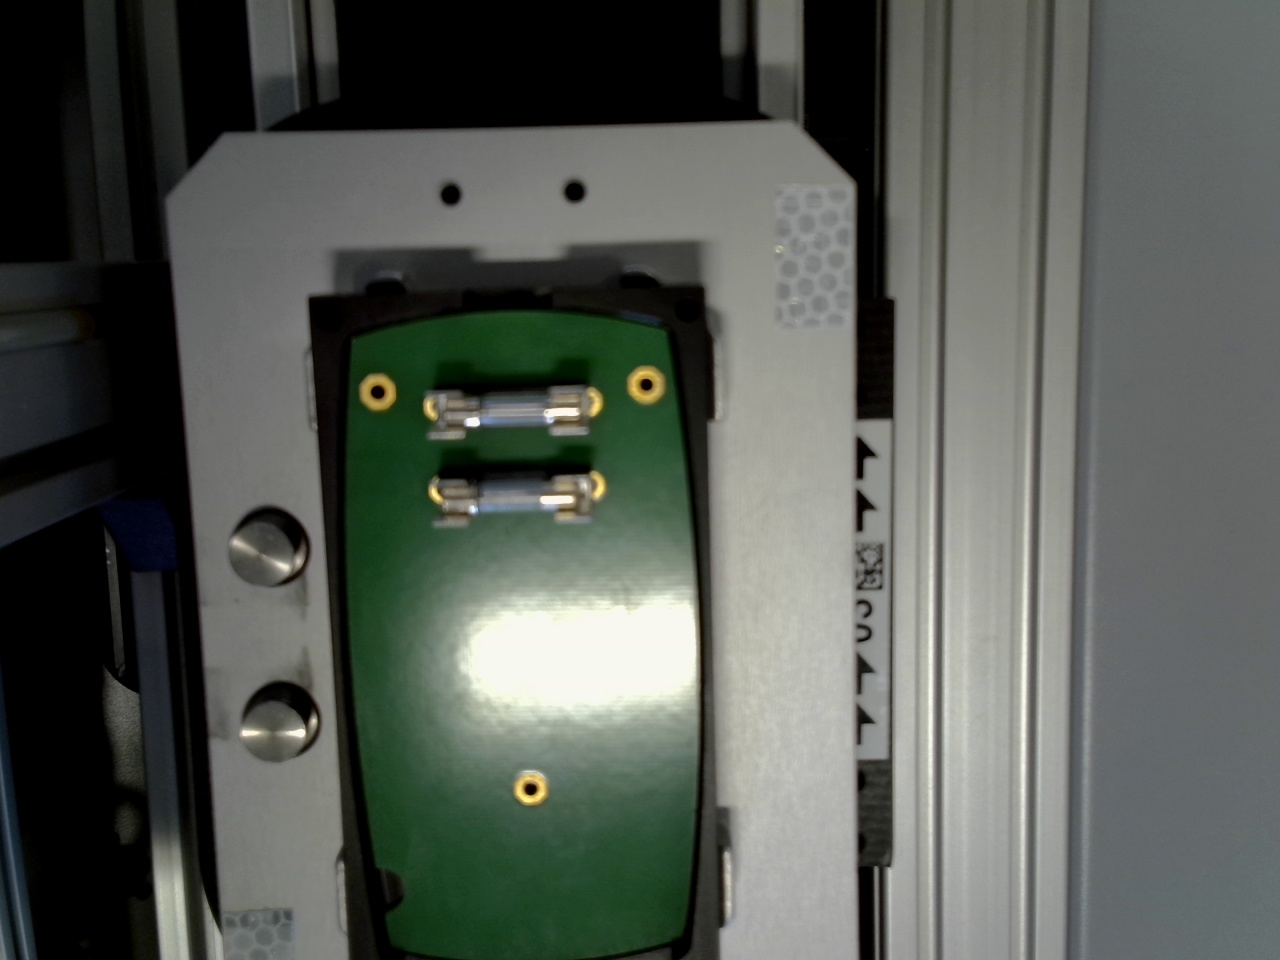Onefuse: (438, 382, 589, 439), (440, 475, 586, 518)
